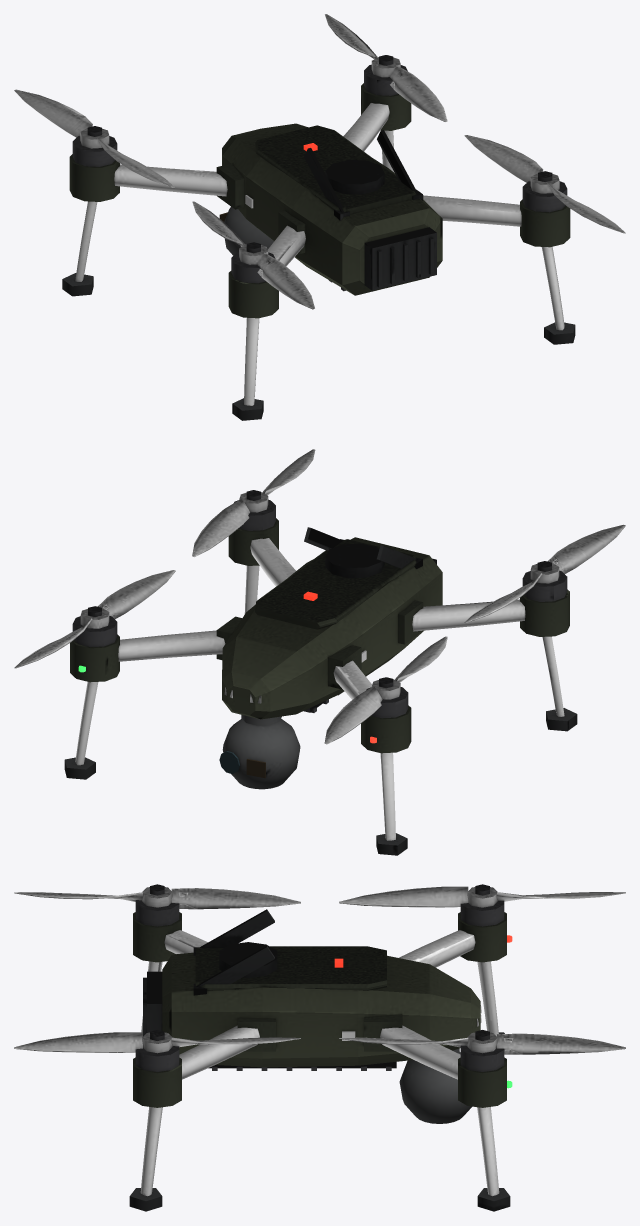
Rendered from drone_recon_lod1_web.glb.
3 views of the same model, one above another, from view 1: azimuth 30°, elevation 25°; view 2: azimuth 150°, elevation 25°; view 3: azimuth 270°, elevation 25° (orthographic). The views are drawn at different scales.
Visible parts, largest first — view 1: DroneRecon_Body, Prop_RR_Mesh, Prop_FL_Mesh, Prop_FR_Mesh, Prop_RL_Mesh, Turret_Mesh; view 2: DroneRecon_Body, Turret_Mesh, Prop_RL_Mesh, Prop_FL_Mesh, Prop_FR_Mesh, Prop_RR_Mesh; view 3: DroneRecon_Body, Prop_RR_Mesh, Prop_FL_Mesh, Prop_RL_Mesh, Prop_FR_Mesh, Turret_Mesh.
Boxes of the visible parts, x1=… form: DroneRecon_Body: x1=62, y1=64, x2=575, y2=420; Prop_RR_Mesh: x1=464, y1=135, x2=625, y2=233; Prop_FL_Mesh: x1=14, y1=89, x2=175, y2=187; Prop_FR_Mesh: x1=325, y1=14, x2=447, y2=121; Prop_RL_Mesh: x1=192, y1=201, x2=314, y2=309; Turret_Mesh: x1=219, y1=206, x2=273, y2=255; DroneRecon_Body: x1=64, y1=499, x2=577, y2=855; Turret_Mesh: x1=219, y1=715, x2=300, y2=789; Prop_RL_Mesh: x1=464, y1=524, x2=625, y2=623; Prop_FL_Mesh: x1=324, y1=636, x2=447, y2=744; Prop_FR_Mesh: x1=14, y1=570, x2=175, y2=668; Prop_RR_Mesh: x1=192, y1=449, x2=315, y2=556; DroneRecon_Body: x1=129, y1=900, x2=512, y2=1211; Prop_RR_Mesh: x1=14, y1=1030, x2=300, y2=1053; Prop_FL_Mesh: x1=339, y1=884, x2=625, y2=907; Prop_RL_Mesh: x1=14, y1=884, x2=300, y2=909; Prop_FR_Mesh: x1=339, y1=1030, x2=625, y2=1054; Turret_Mesh: x1=399, y1=1048, x2=471, y2=1123.
Size of the model in its own units: 0.4178 by 0.2289 by 0.64.
Materials: 11 (11 with a texture image).
